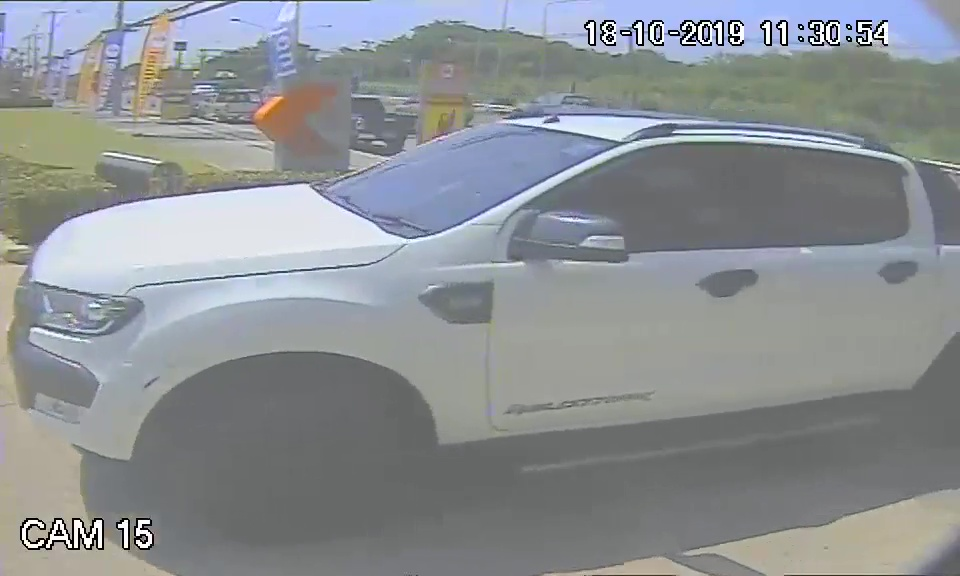pickup: (11, 107, 945, 501)
